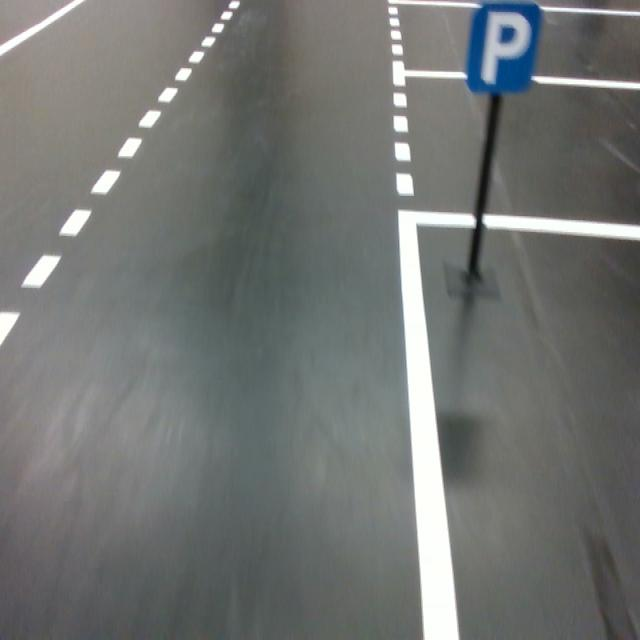parking-sign: (463, 0, 545, 96)
